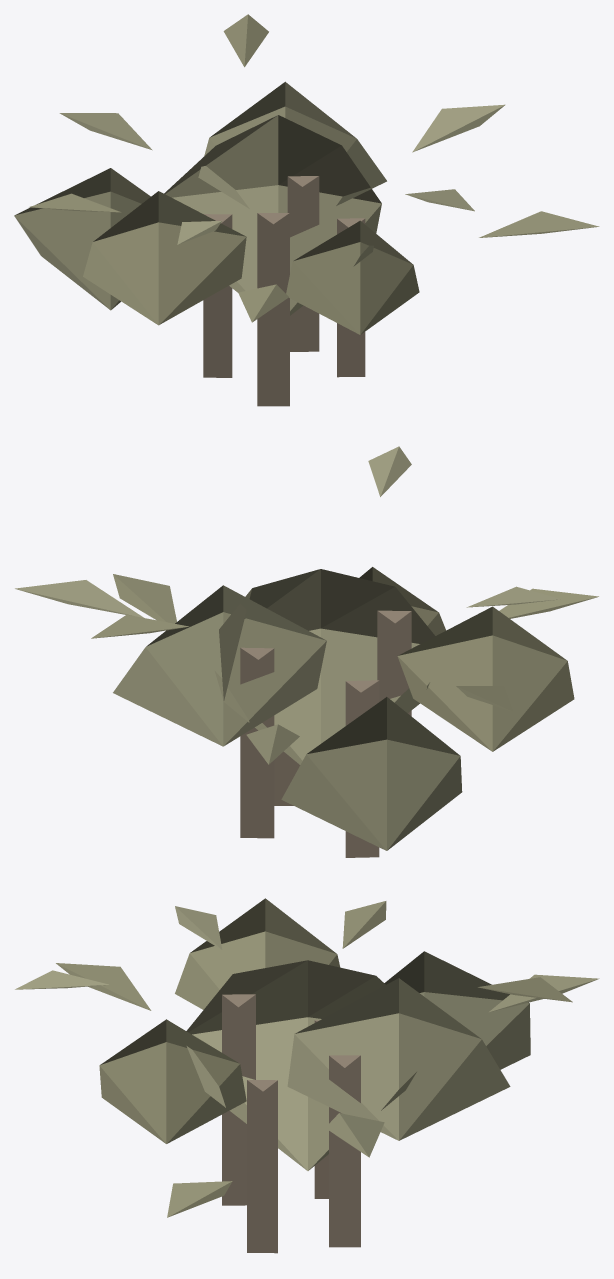
Rendered from guan.lianqiao@subadult__winter.glb.
The picture shows the model from 3 angles, top to bottom: view 1: azimuth 30°, elevation 25°; view 2: azimuth 150°, elevation 25°; view 3: azimuth 270°, elevation 25°; orthographic projection. The views are drawn at different scales.
Visible parts, largest first — view 1: guan.lianqiao@subadult__winter; view 2: guan.lianqiao@subadult__winter; view 3: guan.lianqiao@subadult__winter.
Boxes of the visible parts, left/top/right/bottom form: guan.lianqiao@subadult__winter: left=14, top=14, right=599, bottom=406; guan.lianqiao@subadult__winter: left=15, top=446, right=598, bottom=857; guan.lianqiao@subadult__winter: left=15, top=898, right=599, bottom=1253.
Size of the model in its own units: 1.69 by 0.8787 by 1.67.
